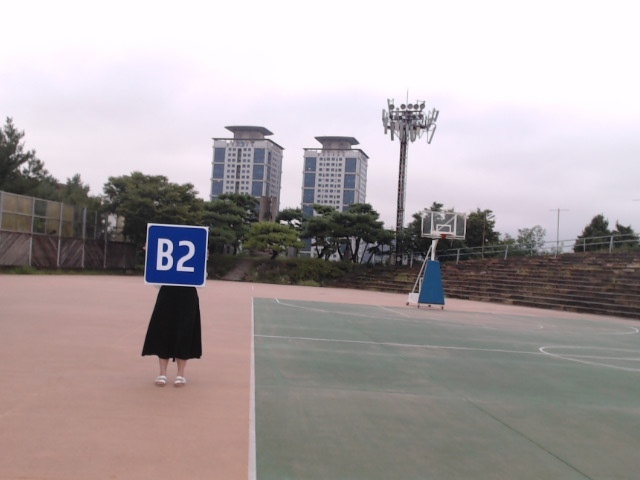delivery_b2: (144, 224, 208, 286)
